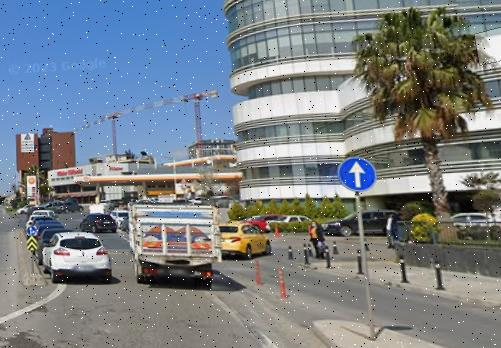forward: (340, 156, 378, 190)
